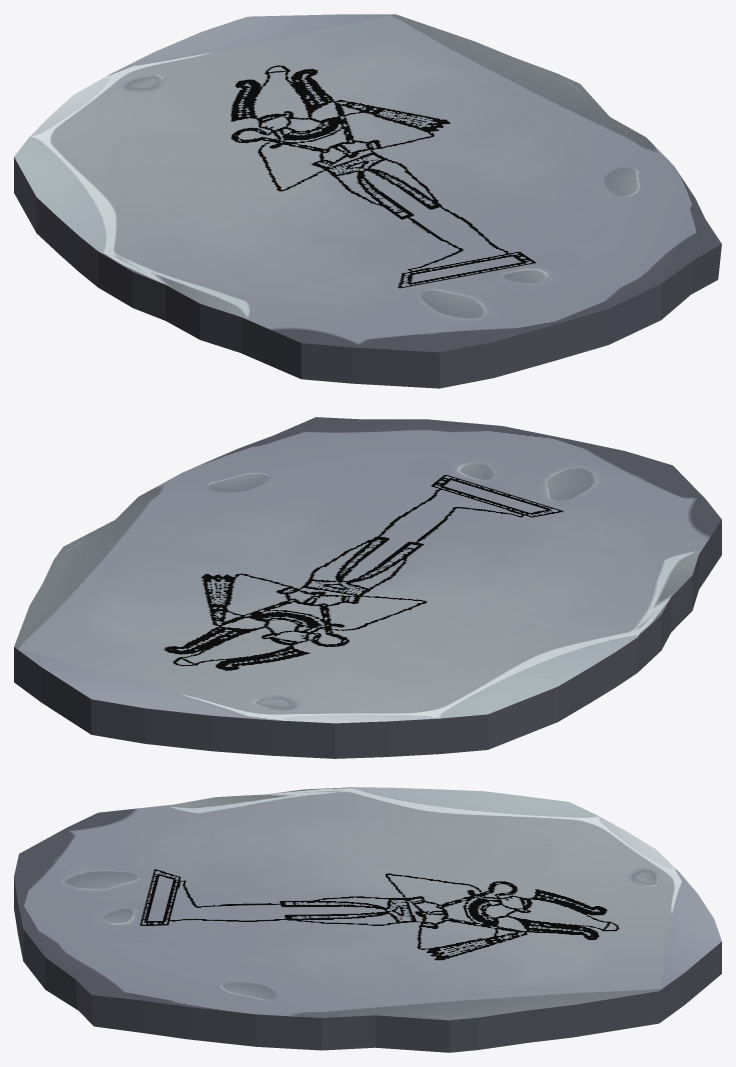
File: runeOsiris.glb
3 views of the same model, one above another, from view 1: azimuth 30°, elevation 25°; view 2: azimuth 150°, elevation 25°; view 3: azimuth 270°, elevation 25° (orthographic). The views are drawn at different scales.
Parts seen in each view (by area): view 1: rune; view 2: rune; view 3: rune.
Boxes of the visible parts, x1=… form: rune: x1=14, y1=14, x2=721, y2=388; rune: x1=14, y1=417, x2=721, y2=758; rune: x1=14, y1=787, x2=721, y2=1052.
Size of the model in its own units: 0.7844 by 0.0509 by 1.01.
1 material, 1 textured.
